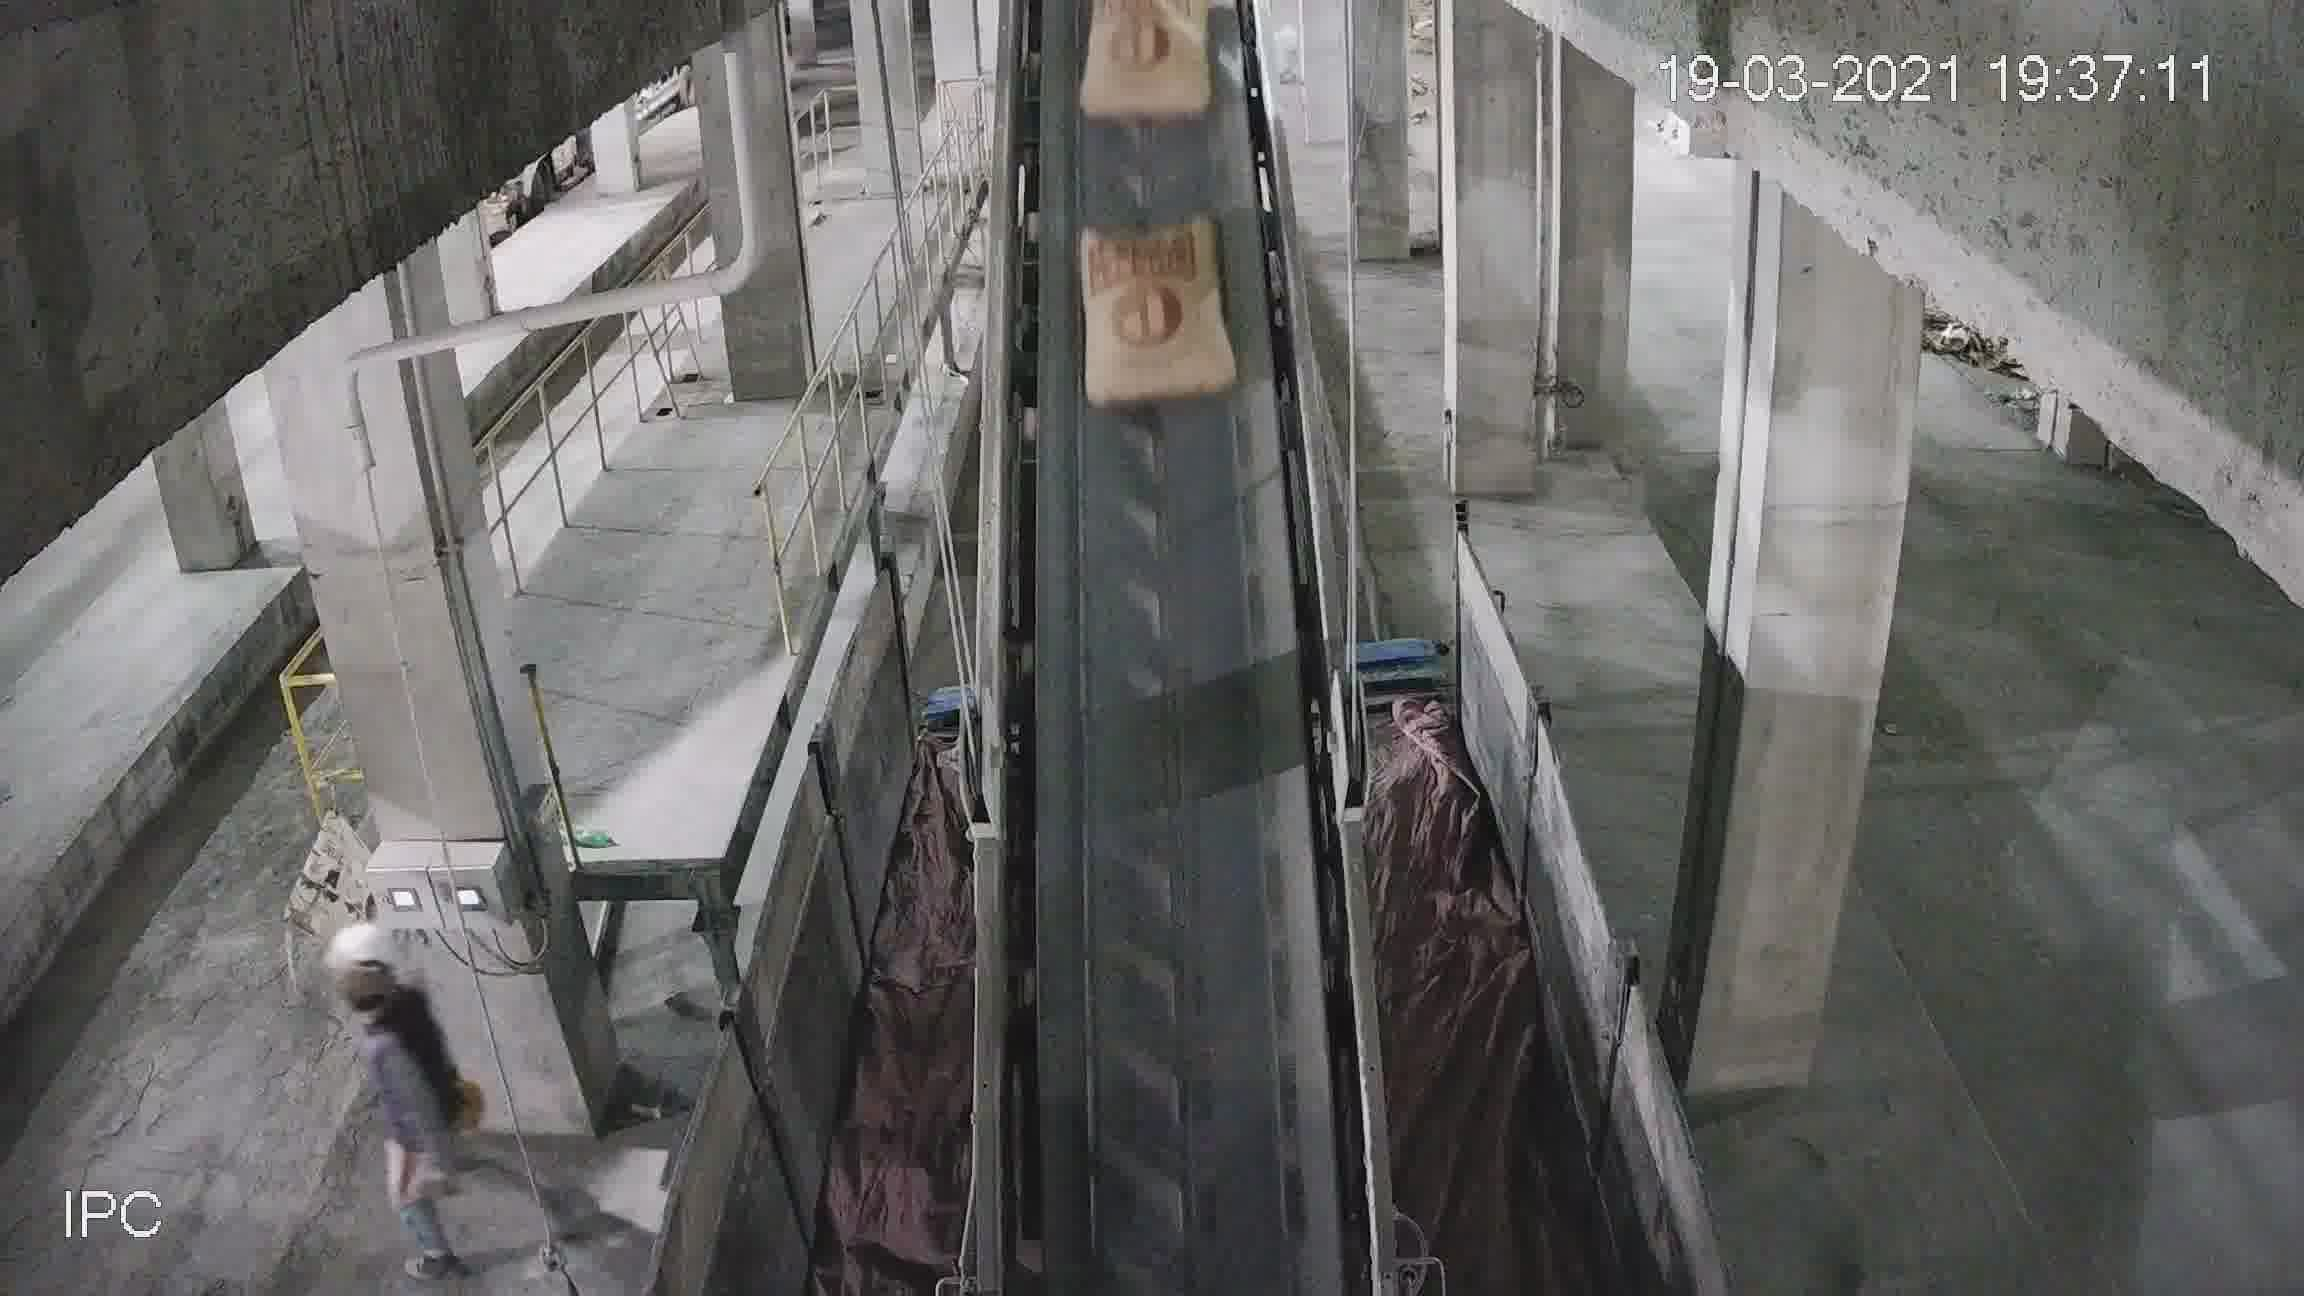bag: (1076, 218, 1234, 400), (1082, 5, 1211, 122)
belt: (981, 119, 1340, 1147)
